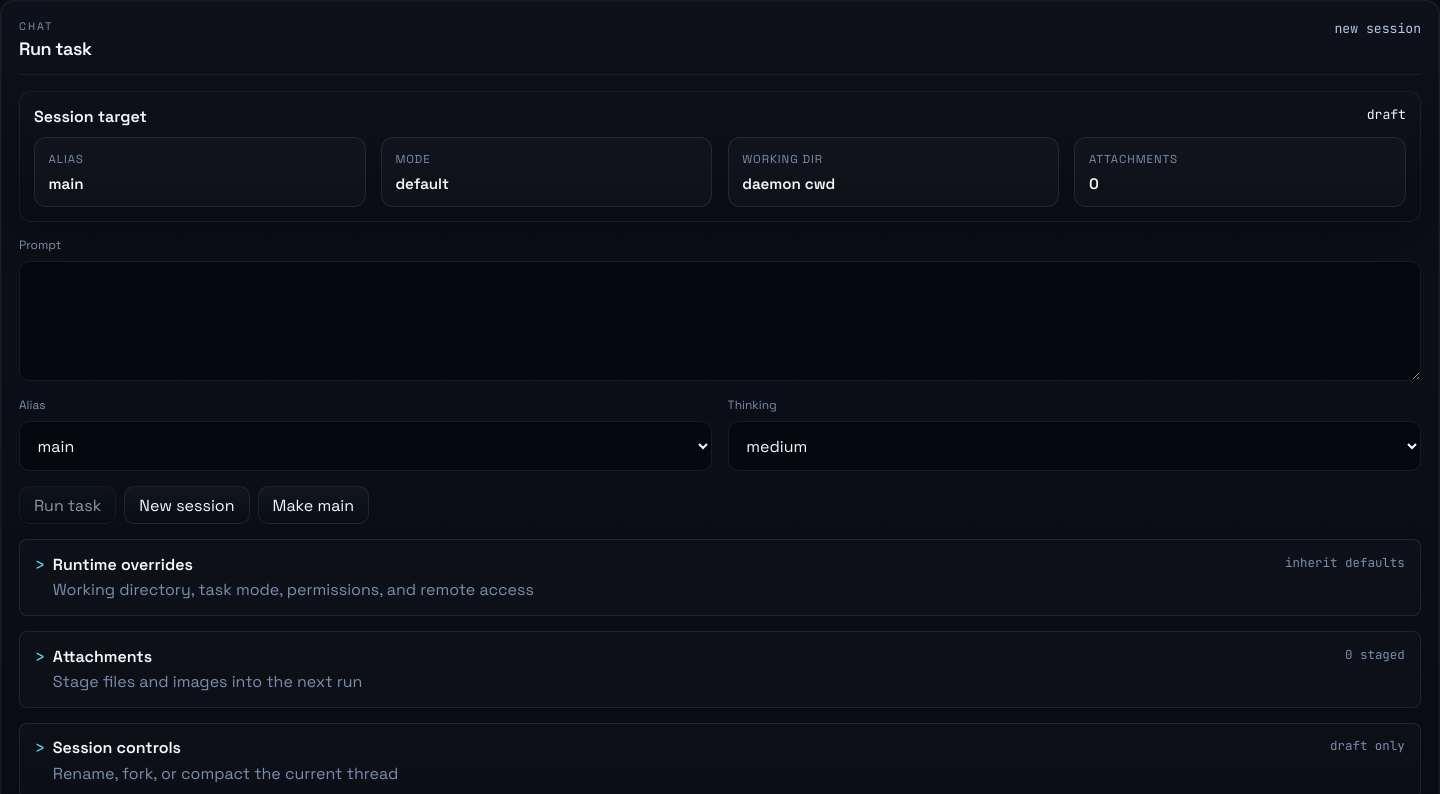
ChatPage › clears staged draft-only run state when opening an existing session
Click the text "Stage files and images into the next run".
click(208, 682)  # box [53,670,362,693]
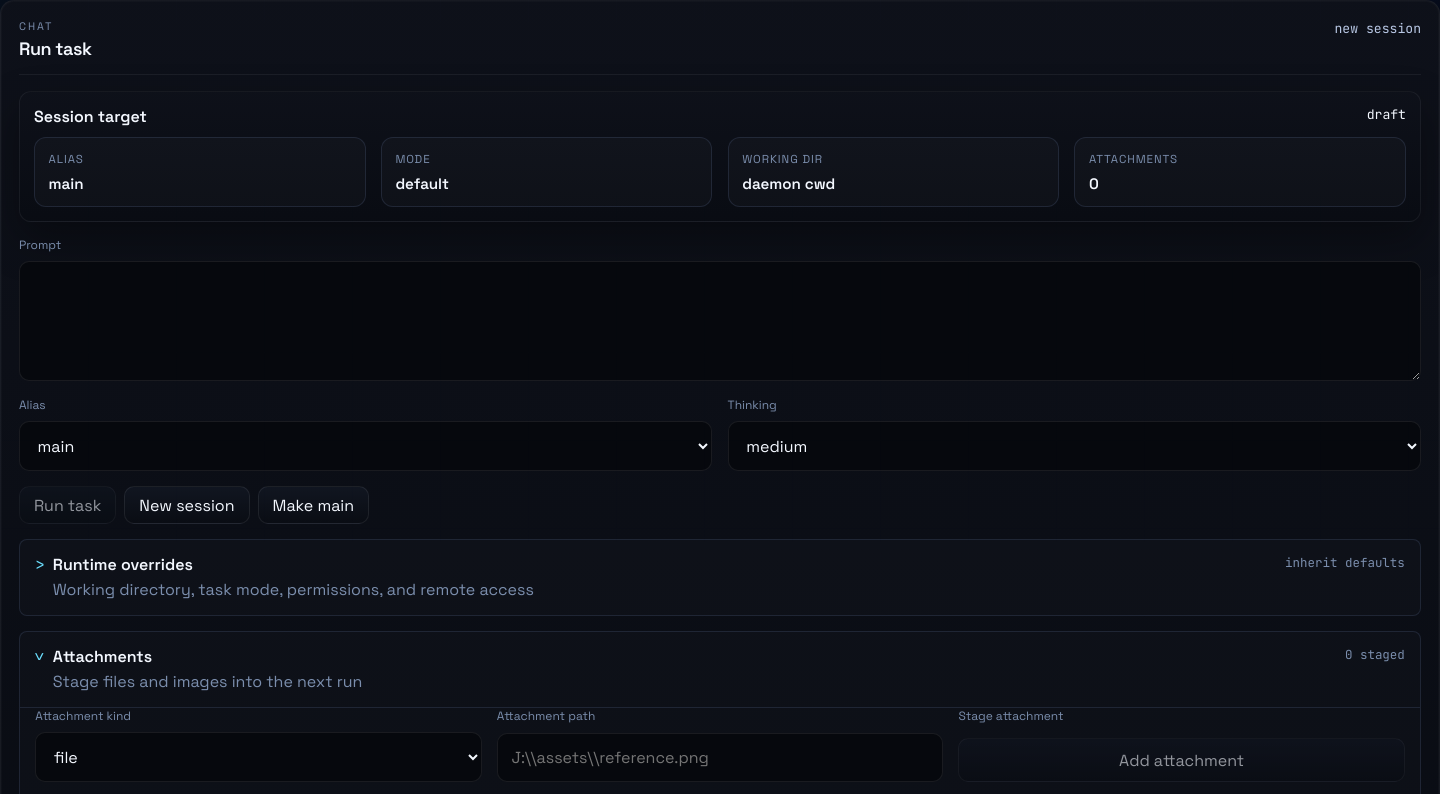
Type "J:\\assets\\reference.png" into the field labelled "Attachment path".
click(720, 758); type("J:\\assets\\reference.png")  # box [497,733,943,782]
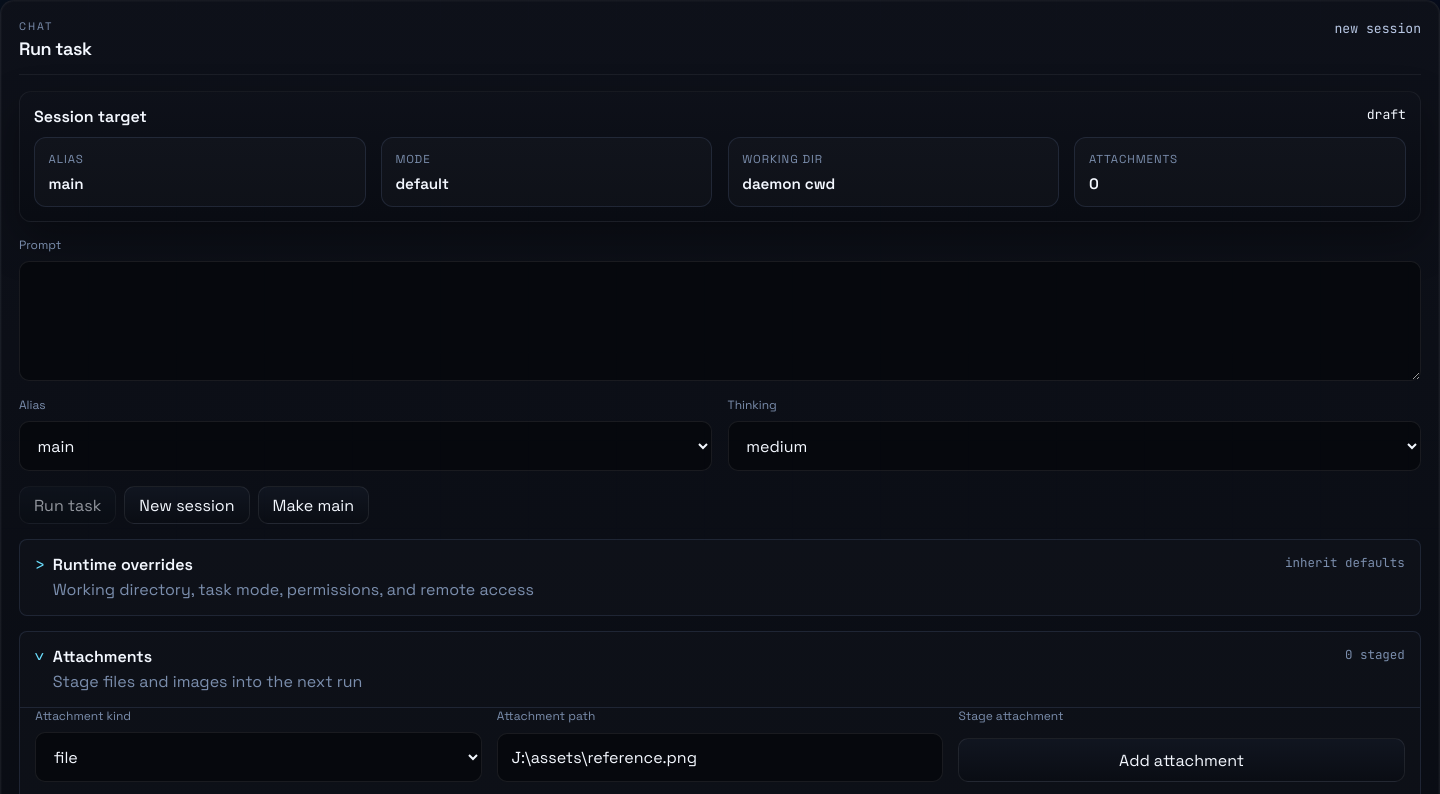
Click the button "Add attachment".
click(1182, 760)  # box [958,738,1405,782]
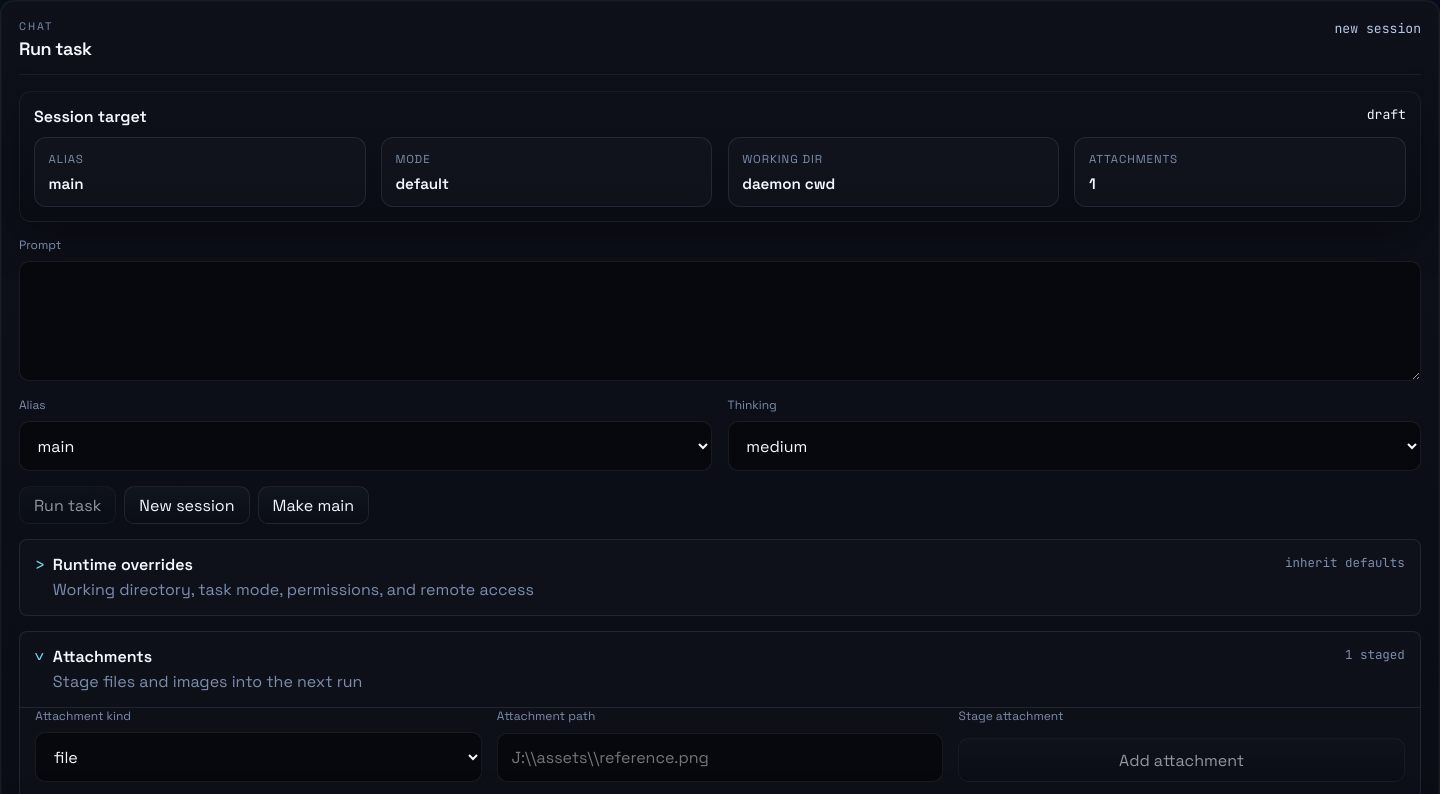
Click the text "Working directory, task mode, permissions, and remote access".
click(293, 590)  # box [53,578,534,601]
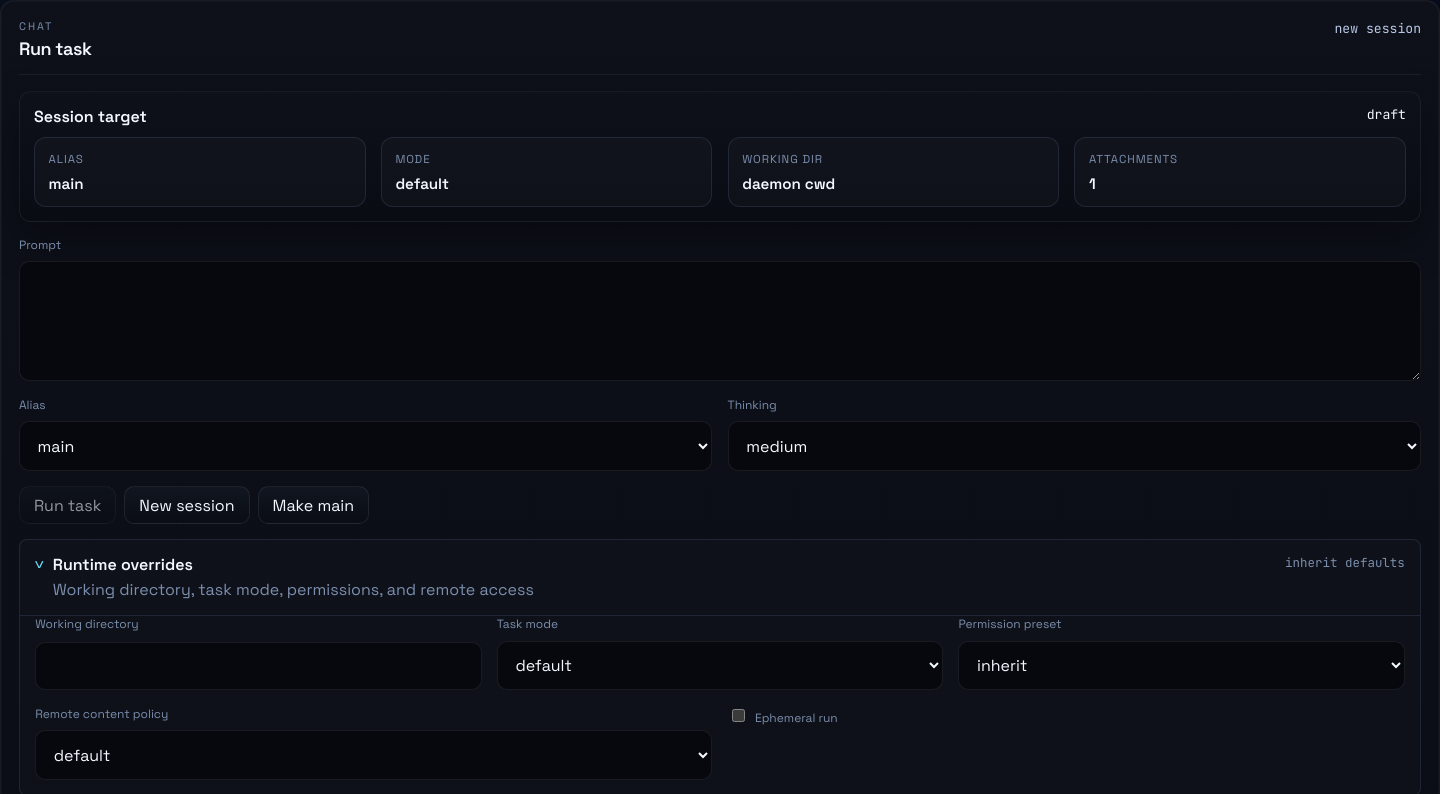
Click the checkbox labelled "Ephemeral run".
click(738, 715)  # box [732,709,745,722]
(page scrolled)
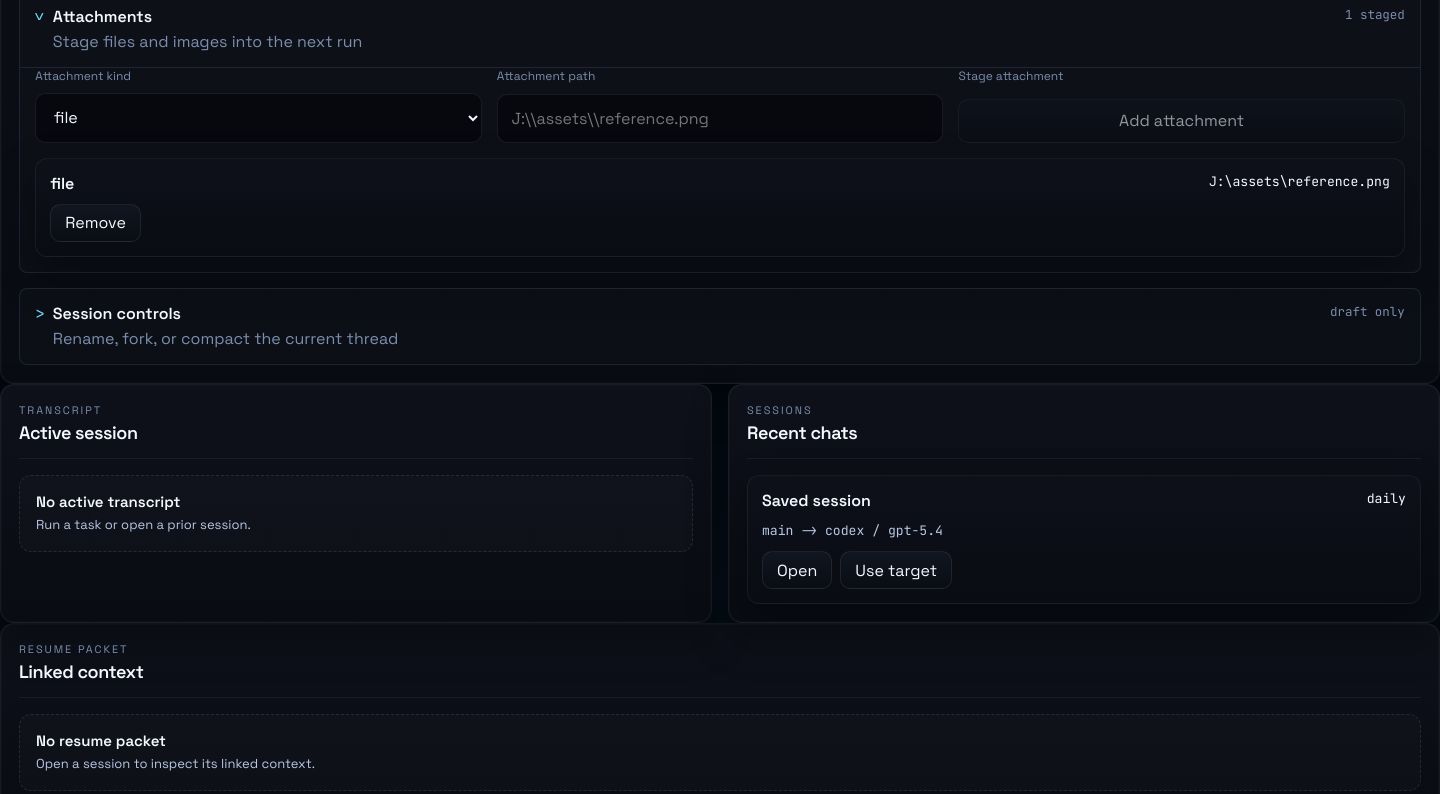
Click the button "Open".
click(797, 570)  # box [762,551,832,589]
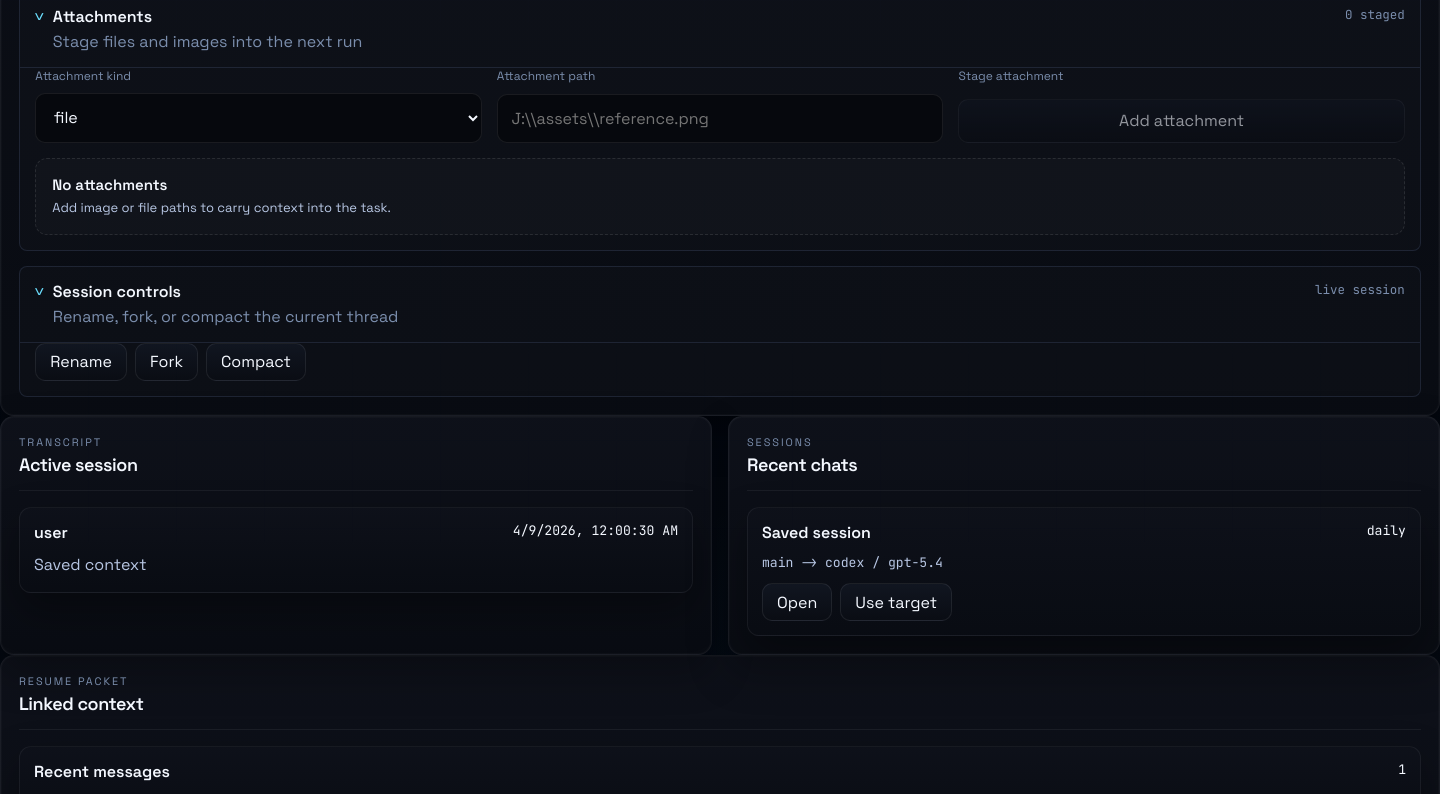
expect the field labelled "Attachment path" is empty: met, box [497,94,943,143]
expect the text "Saved context" is shown: met, box [34,554,147,575]
expect the heading "No attachments" is shown: met, box [52,175,168,194]
